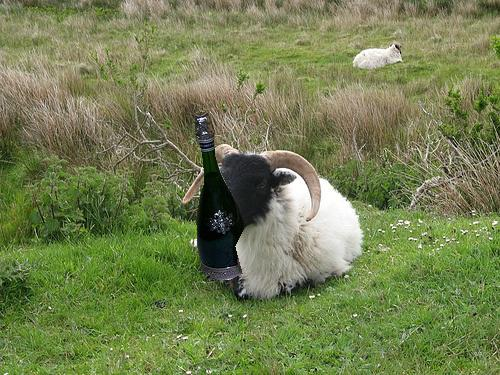tampered: (196, 113, 245, 280)
